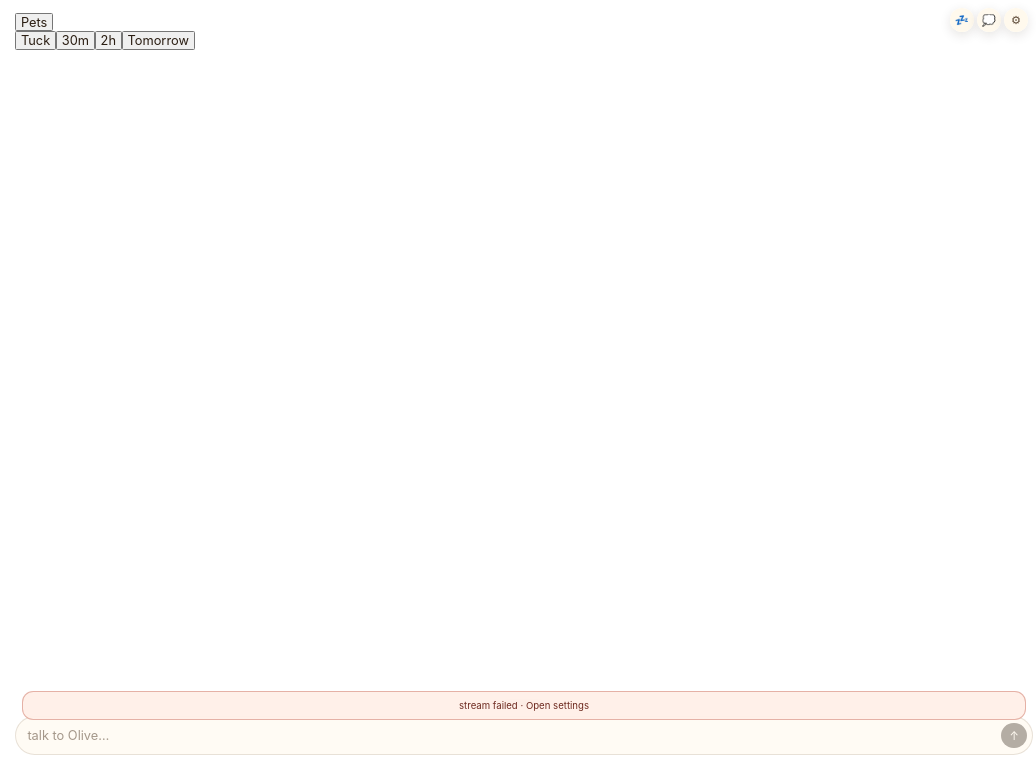
Scenario: App pet animation state wiring › clears interrupted streaming text before the next turn
Type "try again" into the field named "Message your pet" at [512, 736], box [27,722,997,749]
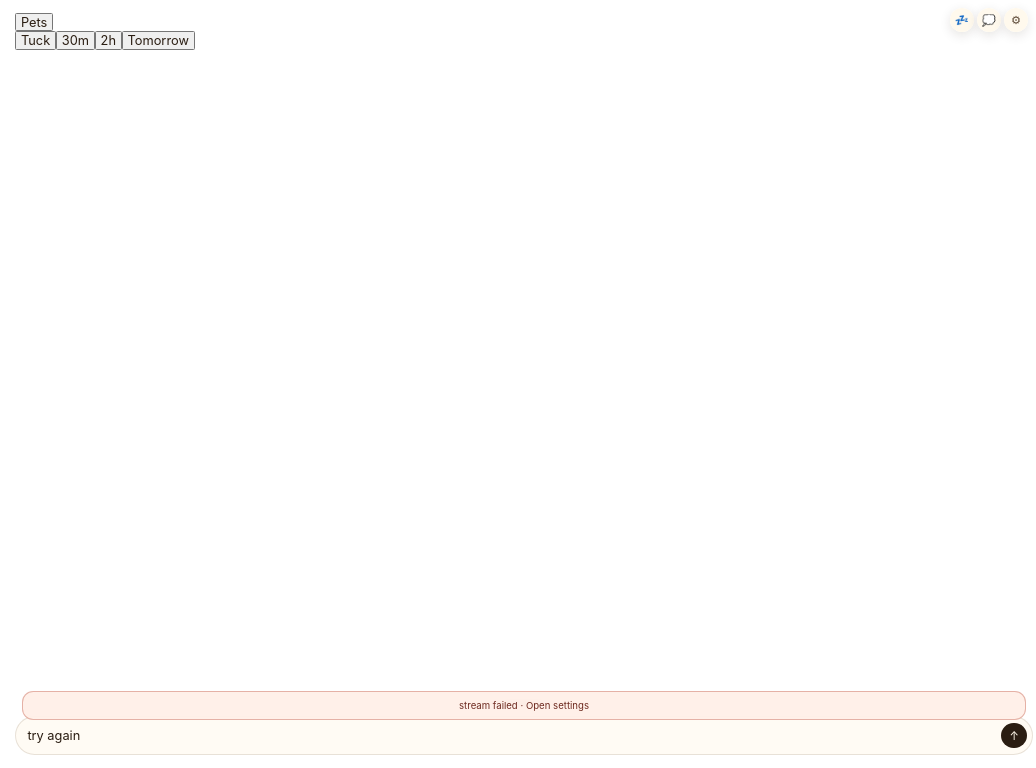
Click the button named "Send message" at [1014, 736], box [1001,723,1027,748]
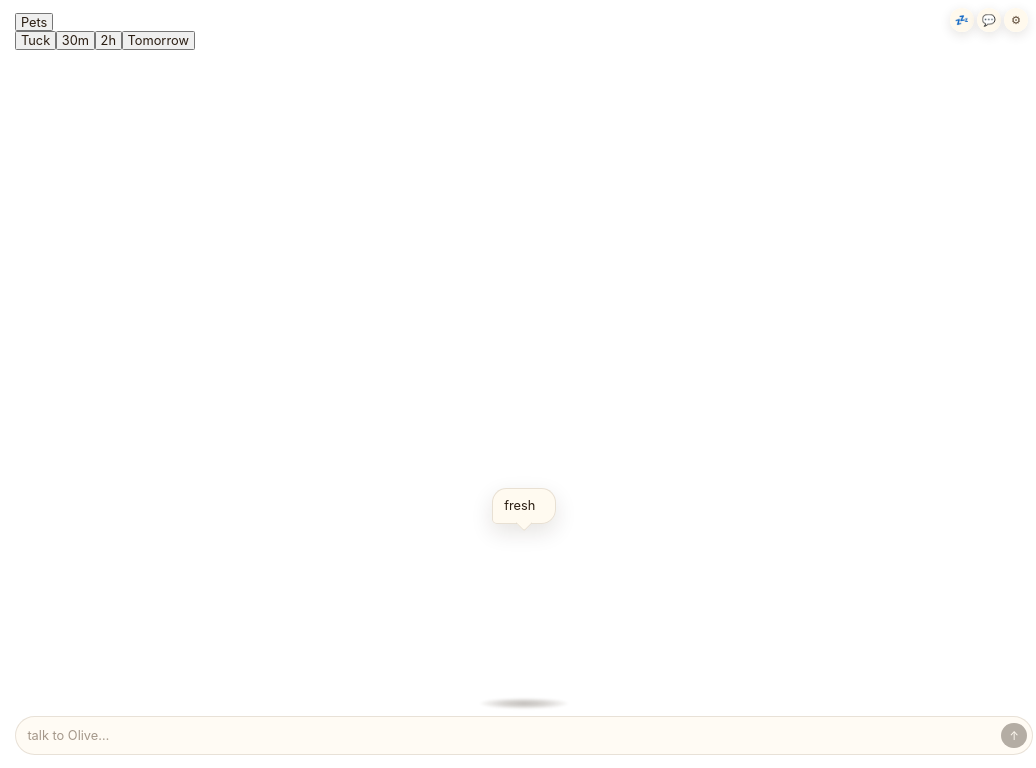
Expected: the text "fresh" is shown, [504,498,535,513]
